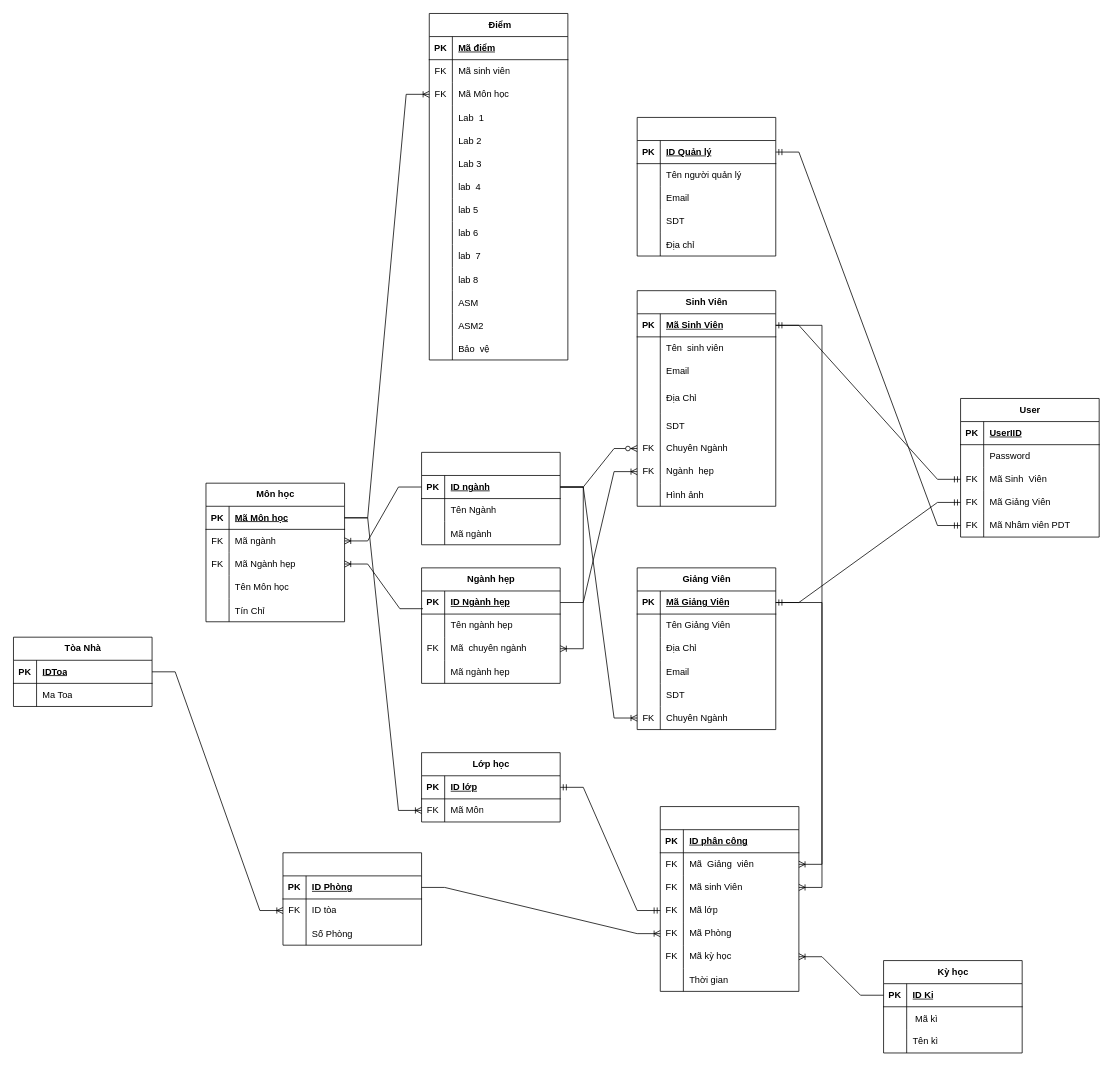
Image size: 1113x1066. Some labels were removed from this diagram. Here are the shapes that lost their labels. From the top down, the box of each, then its label:
(636, 117, 776, 256): Nhân Viên PDT
(421, 452, 560, 545): Chuyên Nghành
(282, 852, 422, 945): Phòng học
(660, 806, 799, 991): Phân công giảng dạy
